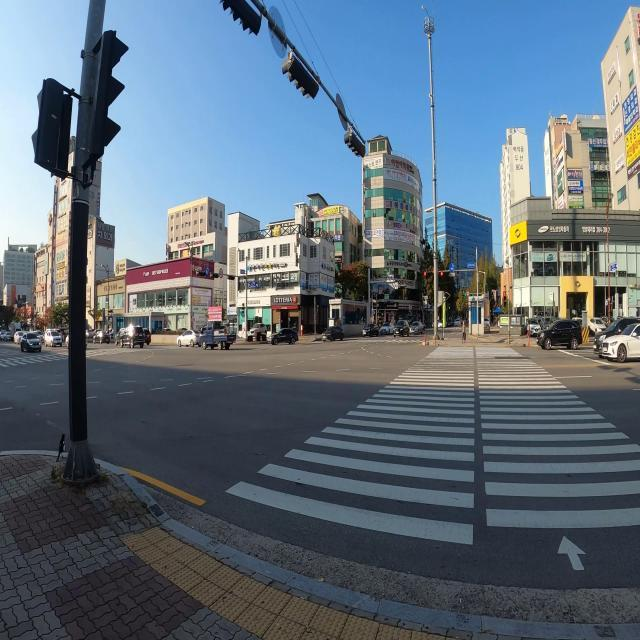crosswalk: (205, 343, 640, 578), (0, 345, 186, 370), (313, 338, 425, 344), (439, 327, 467, 330)
